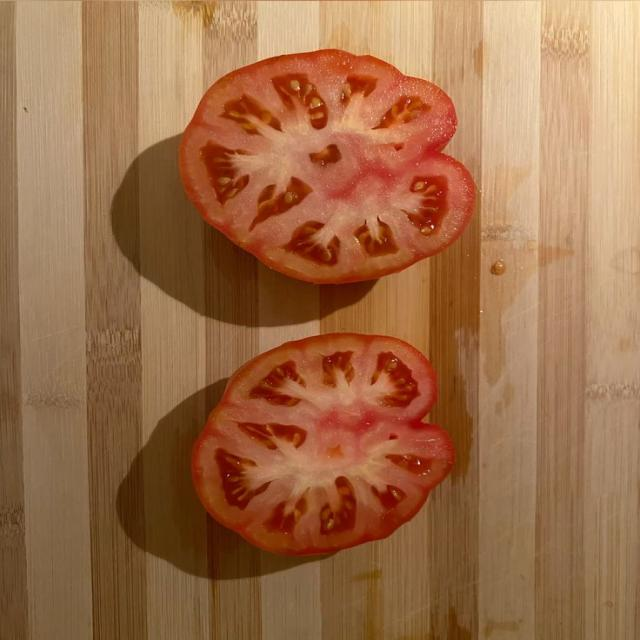sliced tomatoe: (180, 51, 475, 282), (193, 334, 453, 554)
